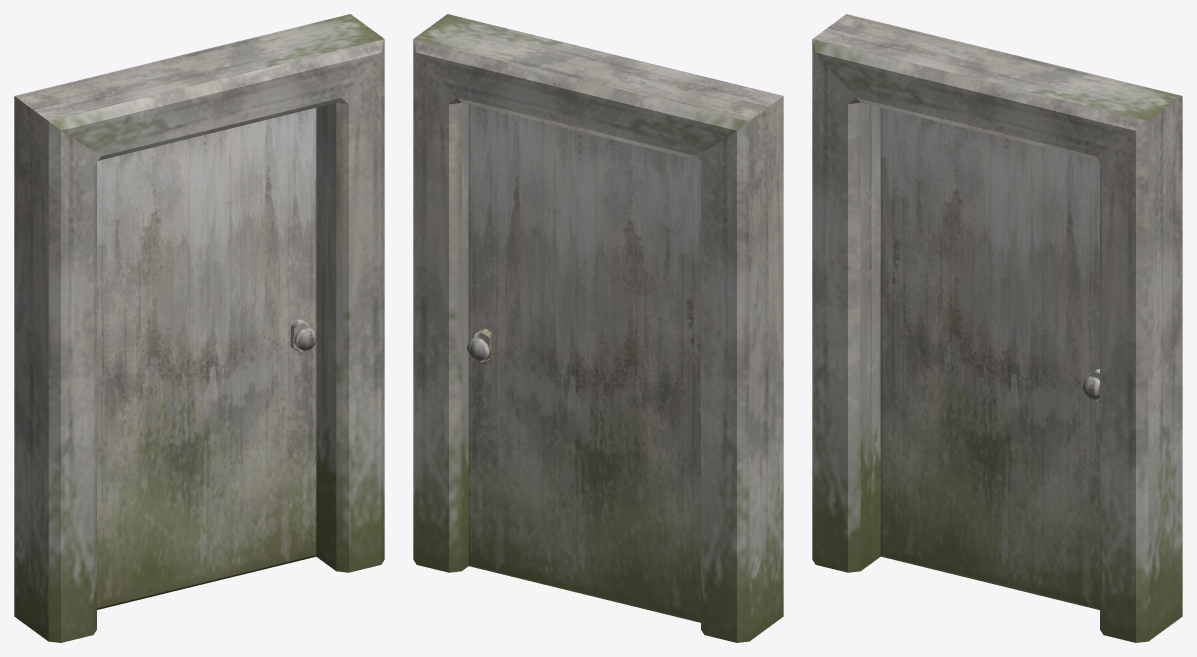
The model's file is Door.fbx.
3 views of the same model, side by side, from view 1: azimuth 30°, elevation 25°; view 2: azimuth 150°, elevation 25°; view 3: azimuth 330°, elevation 25° (orthographic).
Visible parts, largest first — view 1: Frame, Doors; view 2: Doors, Frame; view 3: Frame, Doors.
Part boxes in pixels (x1=…): Frame: x1=14, y1=14, x2=384, y2=642; Doors: x1=97, y1=108, x2=316, y2=609; Doors: x1=467, y1=104, x2=700, y2=622; Frame: x1=413, y1=14, x2=783, y2=642; Frame: x1=812, y1=14, x2=1182, y2=642; Doors: x1=880, y1=108, x2=1099, y2=609.
Size of the model in its own units: 154 by 228 by 35.78.
1 material, 1 textured.
